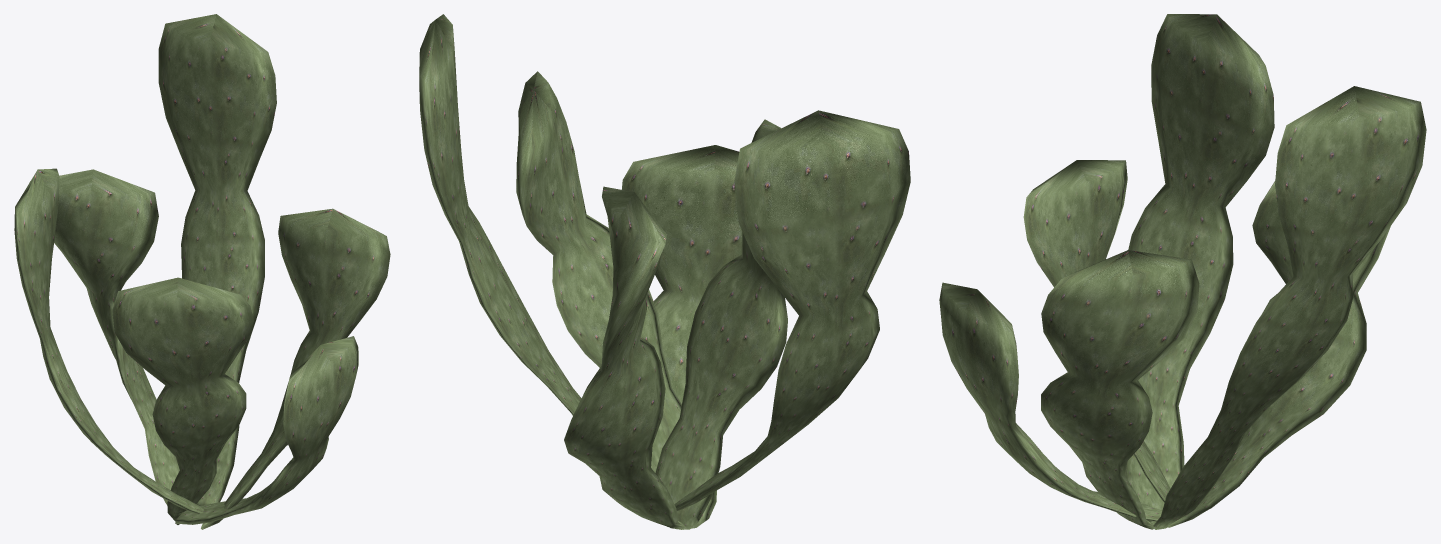
The model's file is opuntia.glb.
The picture shows the model from 3 angles, left to right: view 1: azimuth 30°, elevation 25°; view 2: azimuth 150°, elevation 25°; view 3: azimuth 270°, elevation 25°; orthographic projection. The views are drawn at different scales.
Visible parts, largest first — view 1: tree.002; view 2: tree.002; view 3: tree.002.
Part boxes in pixels (x1=…): tree.002: x1=14, y1=14, x2=390, y2=529; tree.002: x1=419, y1=14, x2=910, y2=529; tree.002: x1=939, y1=14, x2=1426, y2=529.
Size of the model in its own units: 66.07 by 81.73 by 72.34.
Materials: 1 (1 with a texture image).
